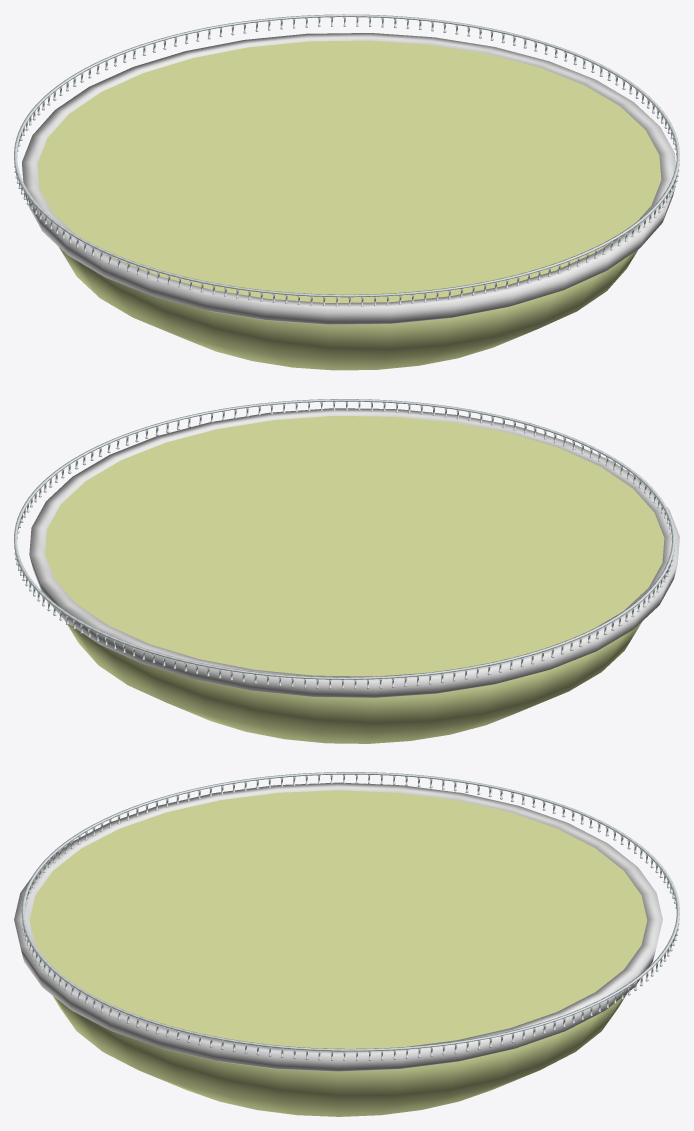
The model's file is LargePlatform.fbx.
The picture shows the model from 3 angles, top to bottom: view 1: azimuth 30°, elevation 25°; view 2: azimuth 150°, elevation 25°; view 3: azimuth 270°, elevation 25°; orthographic projection.
Parts seen in each view (by area): view 1: GrassPlatform, Circle, GrassShader, PlatformRailing; view 2: GrassPlatform, Circle, GrassShader, PlatformRailing; view 3: GrassPlatform, Circle, GrassShader, PlatformRailing.
Boxes of the visible parts, box(x1,y1,x2,y2) form: GrassPlatform: box(37, 40, 661, 302); Circle: box(22, 33, 676, 324); GrassShader: box(58, 246, 638, 370); PlatformRailing: box(14, 14, 679, 306); GrassPlatform: box(45, 416, 664, 676); Circle: box(29, 408, 679, 697); GrassShader: box(65, 621, 641, 743); PlatformRailing: box(14, 399, 675, 689); GrassPlatform: box(29, 790, 647, 1048); Circle: box(14, 782, 662, 1071); GrassShader: box(52, 993, 626, 1116); PlatformRailing: box(21, 772, 679, 1060).
Size of the model in its own units: 27376 by 7176 by 27698.
